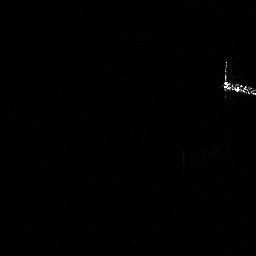ship: (220, 57, 256, 97)
